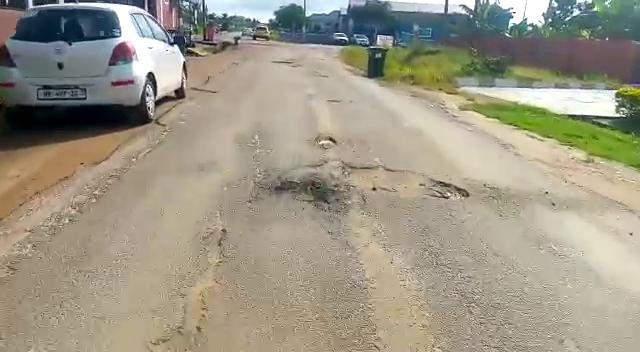pothole: (288, 161, 474, 203), (313, 135, 343, 148)
